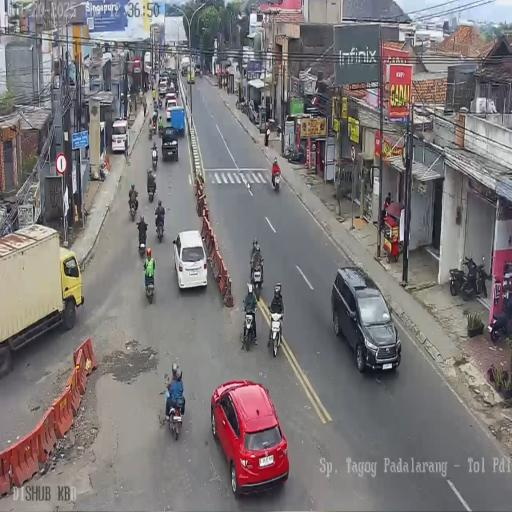3: (1, 225, 85, 374), (170, 107, 185, 136), (181, 56, 190, 76), (166, 55, 176, 73), (168, 69, 178, 87), (144, 51, 151, 74)
car: (210, 380, 289, 498), (333, 265, 402, 371), (173, 231, 207, 290), (160, 126, 179, 161), (111, 118, 129, 154), (158, 78, 168, 94), (194, 62, 201, 75)
truck: (450, 256, 484, 298), (164, 383, 184, 441), (490, 292, 512, 342), (240, 303, 258, 353), (268, 310, 284, 358), (250, 258, 264, 300), (143, 262, 155, 303), (284, 142, 304, 164), (137, 226, 148, 257), (128, 194, 138, 222), (271, 166, 281, 191), (147, 175, 156, 202), (156, 214, 164, 242), (240, 98, 252, 116), (151, 149, 158, 172), (152, 113, 158, 134), (276, 122, 282, 138), (148, 124, 154, 140), (158, 119, 163, 136), (143, 98, 147, 119), (158, 96, 163, 108)
